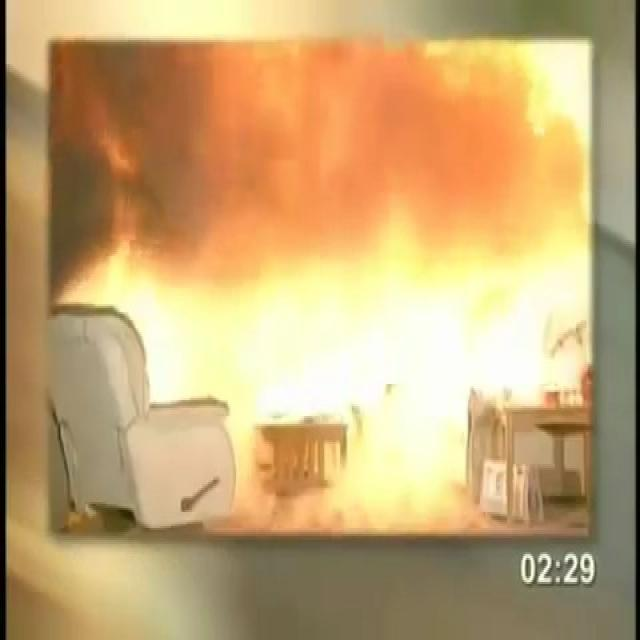Fire: (156, 226, 463, 400)
